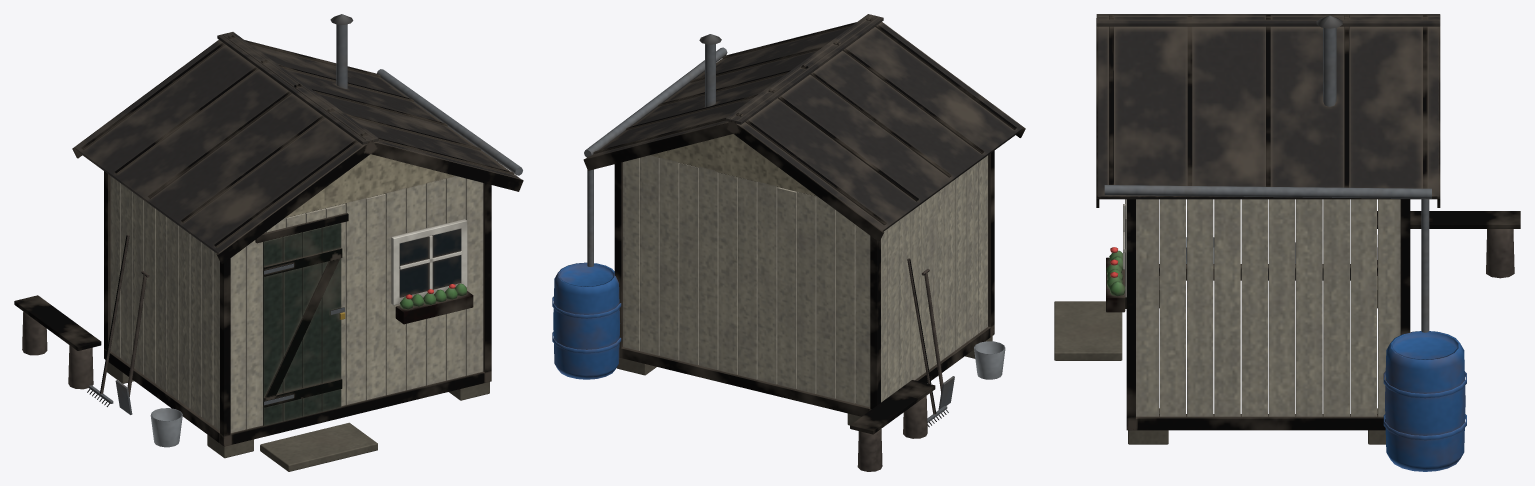
Rendered from altanka.glb.
3 views of the same model, side by side, from view 1: azimuth 30°, elevation 25°; view 2: azimuth 150°, elevation 25°; view 3: azimuth 270°, elevation 25° (orthographic). The views are drawn at different scales.
Parts seen in each view (by area): view 1: Altanka, TintSciany; view 2: Altanka, TintSciany; view 3: Altanka, TintSciany.
Part boxes in pixels (x1,y1,x2,y2): Altanka: (14, 14, 523, 471); TintSciany: (110, 154, 483, 432); Altanka: (552, 14, 1025, 471); TintSciany: (623, 134, 987, 407); Altanka: (1054, 14, 1520, 471); TintSciany: (1136, 199, 1400, 416).
Bounding box in the file's own units: 3.64 × 3.18 × 3.42.
Materials: 2 (2 with a texture image).
